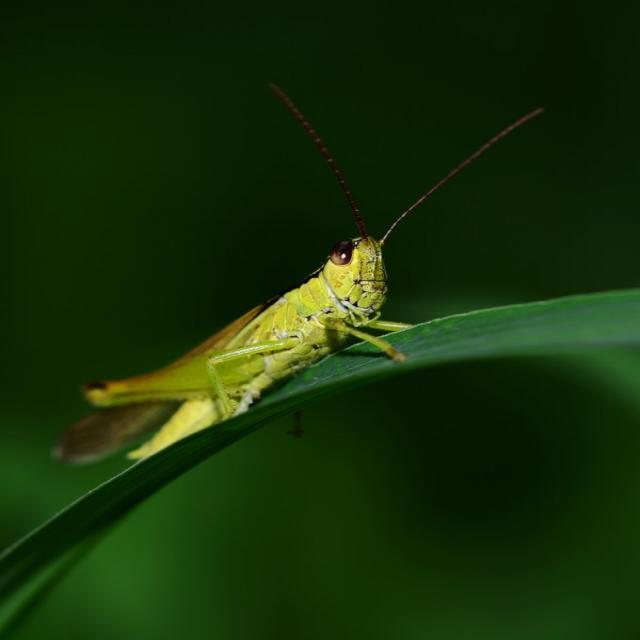ZhaMeng: (88, 207, 420, 486)
